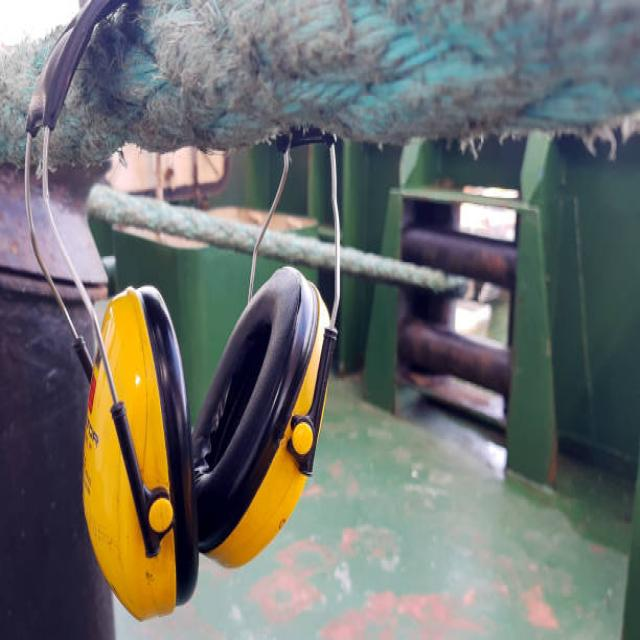Ear-protection: (10, 8, 351, 622)
